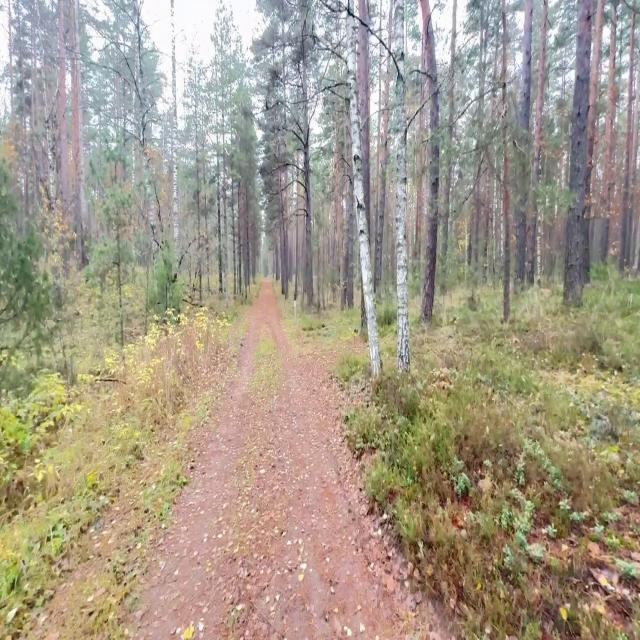bush: (0, 159, 51, 385), (91, 181, 132, 350), (149, 245, 181, 314)
trees: (347, 0, 380, 376), (563, 0, 592, 306), (392, 0, 409, 372), (421, 0, 439, 323), (583, 0, 603, 282), (515, 0, 532, 283), (441, 0, 457, 299), (70, 0, 87, 266), (619, 4, 635, 273), (601, 0, 617, 261), (300, 0, 313, 306), (210, 64, 226, 296), (473, 0, 486, 285), (374, 61, 389, 293), (358, 24, 373, 253), (501, 0, 510, 324), (57, 0, 70, 222), (190, 65, 202, 302), (274, 97, 288, 299), (533, 0, 547, 192), (171, 0, 179, 244), (129, 0, 139, 186), (341, 159, 353, 309), (332, 115, 341, 284), (245, 190, 250, 290), (238, 186, 242, 293)
